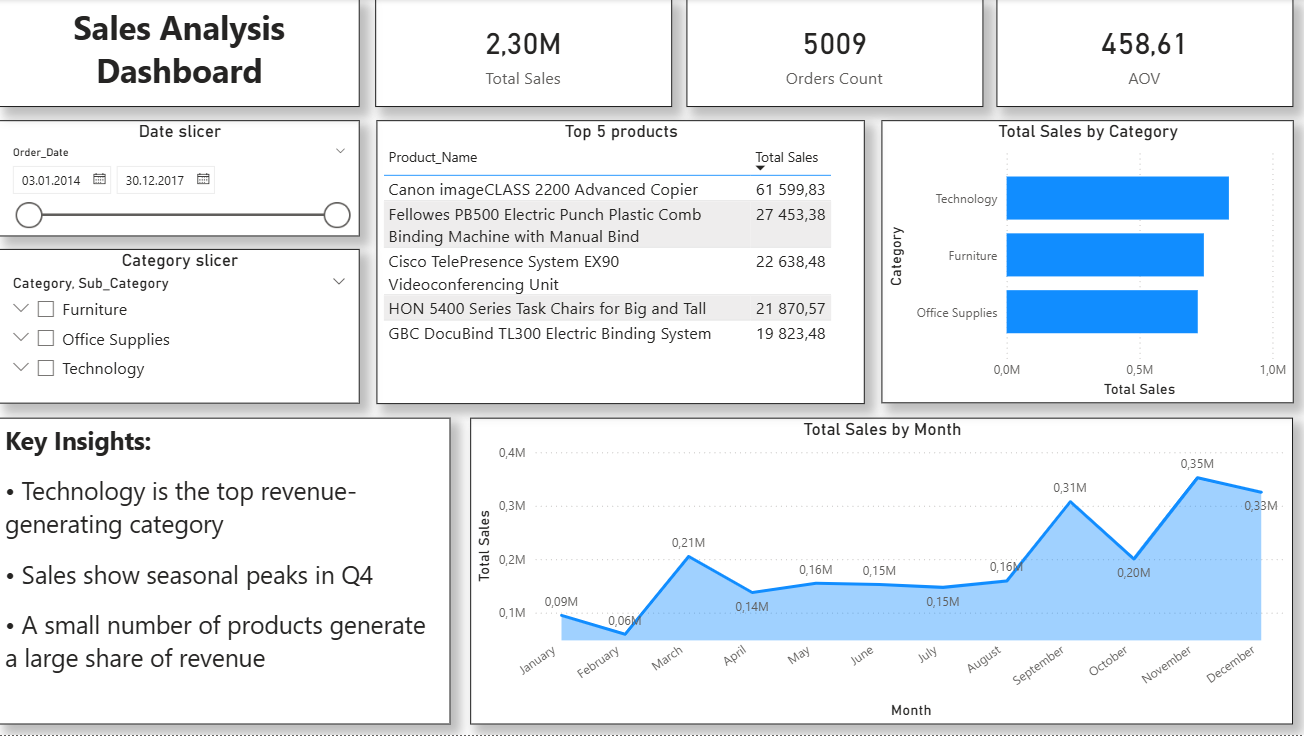

The page's visual inventory and layout, read from the dashboard file:
{"tool":"powerbi","page":{"name":"Page 1","canvas":[1280,720],"ordinal":0},"visuals":[{"type":"card","fields":{"Values":["superstore.Total Sales"]},"box":[368.6,0,290,105.7],"z":0},{"type":"card","fields":{"Values":["superstore.Orders Count"]},"box":[672.9,0,290,105.7],"z":1000},{"type":"card","fields":{"Values":["superstore.AOV"]},"box":[975.7,0,290,105.7],"z":2000},{"type":"lineChart","fields":{"Category":["superstore.Order_Date.Variation.Date Hierarchy.Year","superstore.Order_Date.Variation.Date Hierarchy.Quarter","superstore.Order_Date.Variation.Date Hierarchy.Month","superstore.Order_Date.Variation.Date Hierarchy.Day"],"Y":["superstore.Total Sales"]},"box":[461.2,410,805,300],"z":3000},{"type":"clusteredBarChart","fields":{"Category":["superstore.Category"],"Y":["superstore.Total Sales"]},"box":[862.9,118.6,402.9,277.1],"z":4000},{"type":"tableEx","title":"Top 5 products","fields":{"Values":["superstore.Product_Name","superstore.Total Sales"]},"box":[368.8,118.8,477.5,277.5],"z":5000},{"type":"slicer","title":"Date slicer","fields":{"Values":["superstore.Order_Date"]},"box":[0,118.8,352.5,113.8],"z":6000},{"type":"slicer","title":"Category slicer","fields":{"Values":["superstore.Category","superstore.Sub_Category"]},"box":[0,245,352.5,151.2],"z":6001},{"type":"textbox","box":[0,0,352.9,105.7],"z":6002},{"type":"textbox","box":[0,410,441.4,300],"z":6003}]}

Visuals, with their boxes in screenshot pixels (x1, y1, x2, y2), scaled from the page's 1280x720 canvas onto the 1304x736 screenshot:
card - superstore.Total Sales: [376,0,671,108]
card - superstore.Orders Count: [686,0,981,108]
card - superstore.AOV: [994,0,1289,108]
lineChart - superstore.Order_Date.Variation.Date Hierarchy.Year x superstore.Order_Date.Variation.Date Hierarchy.Quarter: [470,419,1290,726]
clusteredBarChart - superstore.Category x superstore.Total Sales: [879,121,1290,404]
"Top 5 products" tableEx: [376,121,862,405]
"Date slicer" slicer: [0,121,359,238]
"Category slicer" slicer: [0,250,359,405]
textbox: [0,0,360,108]
textbox: [0,419,450,726]
